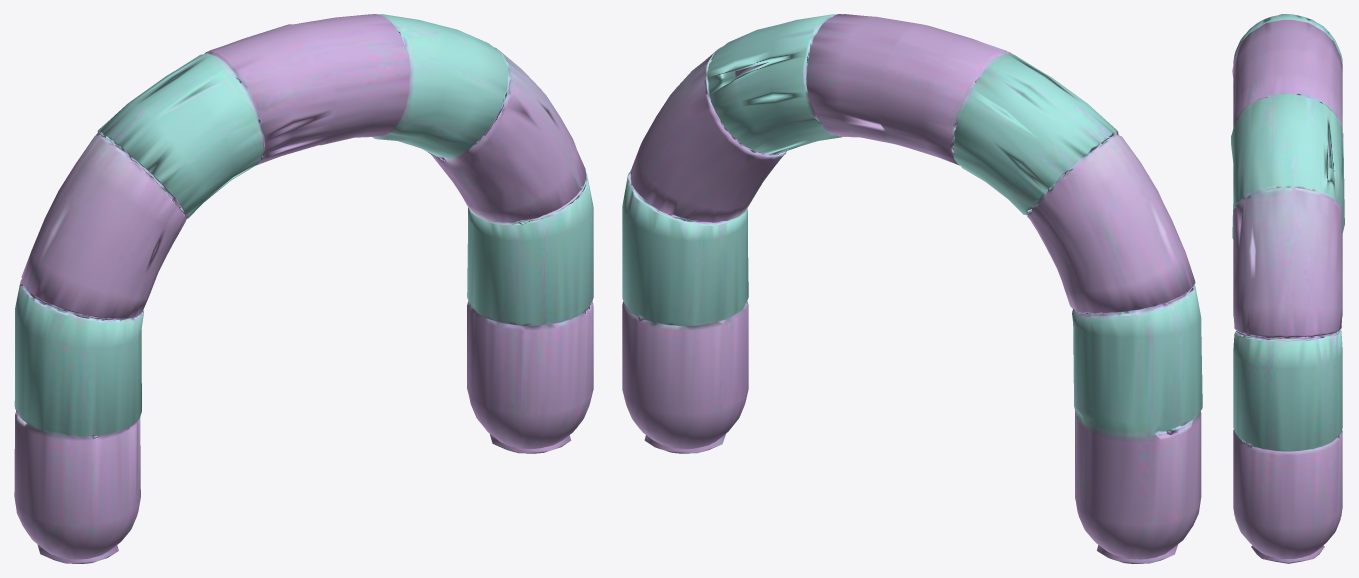
Rendered from finish_arch.glb.
The picture shows the model from 3 angles, left to right: view 1: azimuth 30°, elevation 25°; view 2: azimuth 150°, elevation 25°; view 3: azimuth 270°, elevation 25°; orthographic projection. The views are drawn at different scales.
Visible parts, largest first — view 1: tripo_node_9f570727-9643-40e3-8b0e-f5ca8d1558b6; view 2: tripo_node_9f570727-9643-40e3-8b0e-f5ca8d1558b6; view 3: tripo_node_9f570727-9643-40e3-8b0e-f5ca8d1558b6.
Boxes of the visible parts, left/top/right/bottom form: tripo_node_9f570727-9643-40e3-8b0e-f5ca8d1558b6: left=14, top=14, right=593, bottom=563; tripo_node_9f570727-9643-40e3-8b0e-f5ca8d1558b6: left=622, top=14, right=1202, bottom=563; tripo_node_9f570727-9643-40e3-8b0e-f5ca8d1558b6: left=1231, top=14, right=1344, bottom=563.
Bounding box in the file's own units: 0.998 × 0.7988 × 0.2012.
Materials: 1 (1 with a texture image).
